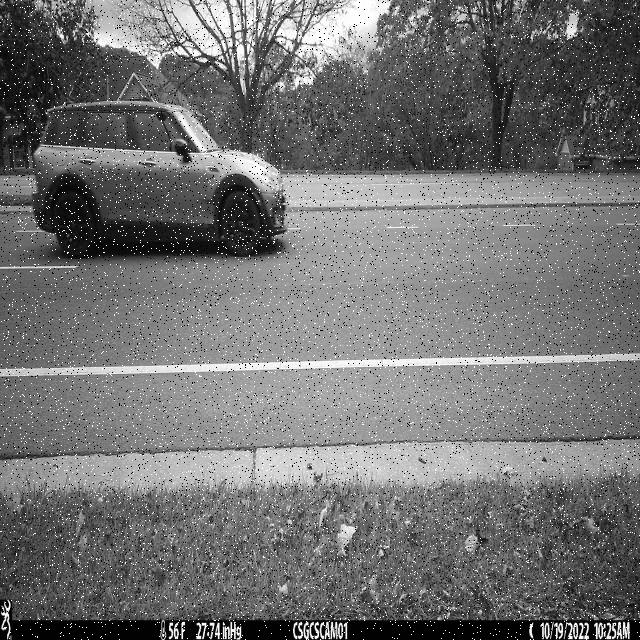Hatchback: (31, 100, 288, 259)
